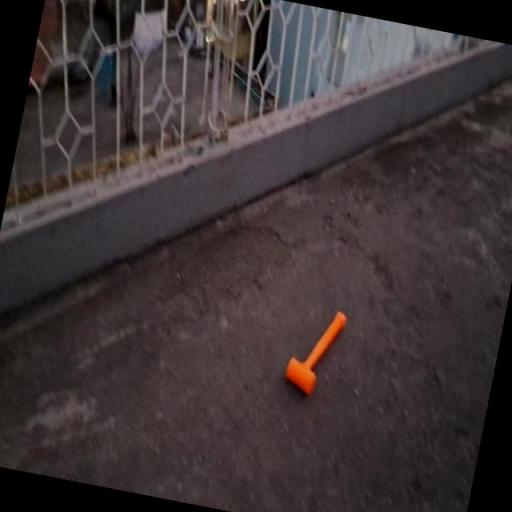mallet: (282, 301, 347, 400)
